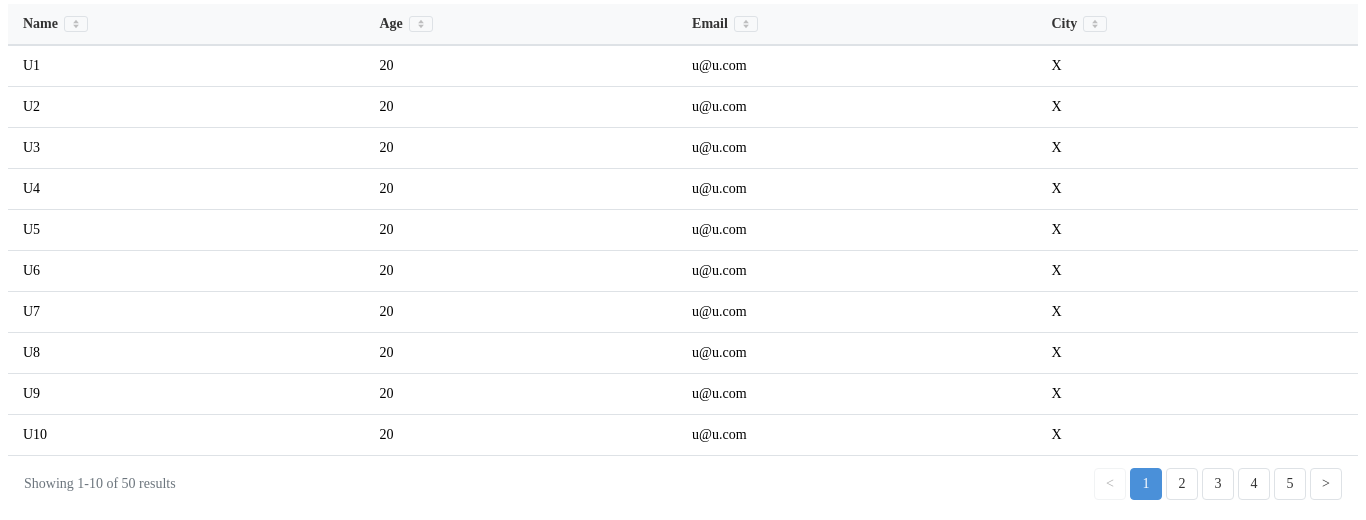
Stress Tests › goToPage beyond totalPages clamps to last page
// Click last page button (page 5) to get to last page, then check next is disabled
What coordinates should you click on to do the following:
click the button named "Page 5"
I would click on:
 (1290, 484)
Its box is x1=1274 y1=468 x2=1306 y2=500.
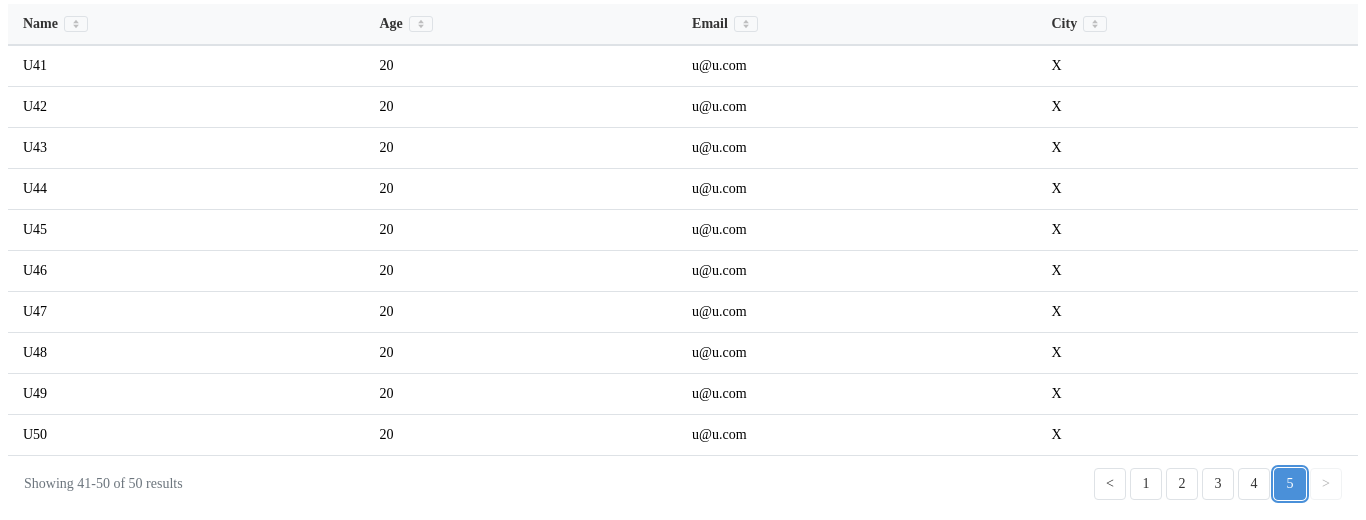
Expected: the button named "Next page" is disabled, x1=1310 y1=468 x2=1342 y2=500
Expected: the text "Showing 41-50 of 50 results" is shown, x1=24 y1=476 x2=183 y2=492
